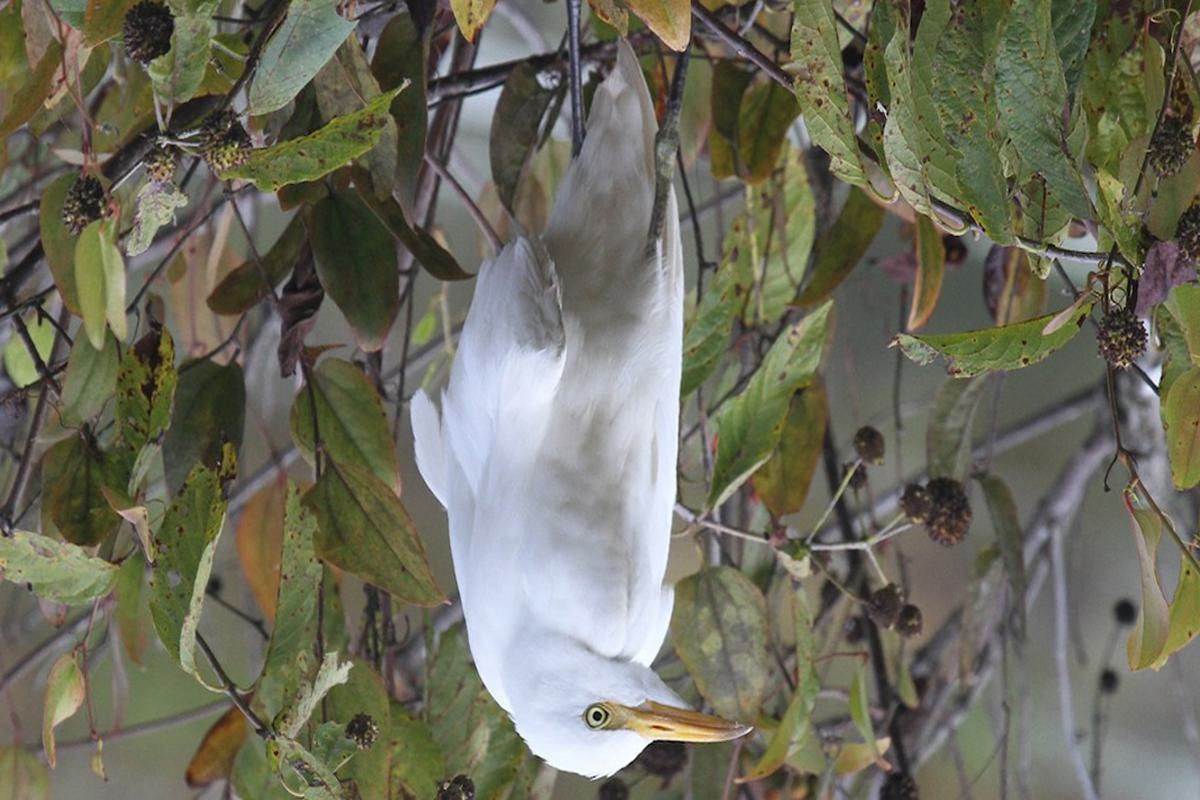egret: (420, 46, 768, 786)
